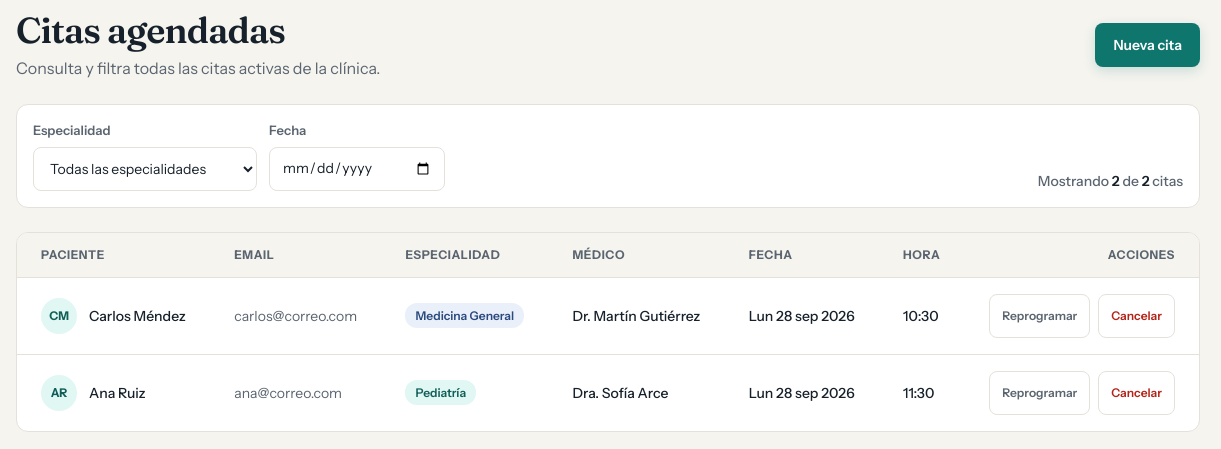
Scenario: CitasPage › resets filters when "Limpiar filtros" is clicked
The width and height of the screenshot is (1221, 449).
Expected: the text "Carlos Méndez" is shown, [89,306,186,326]
Apply filter
Select "Pediatría" in the dropdown labelled "Especialidad": (145, 168) [33,146,257,190]
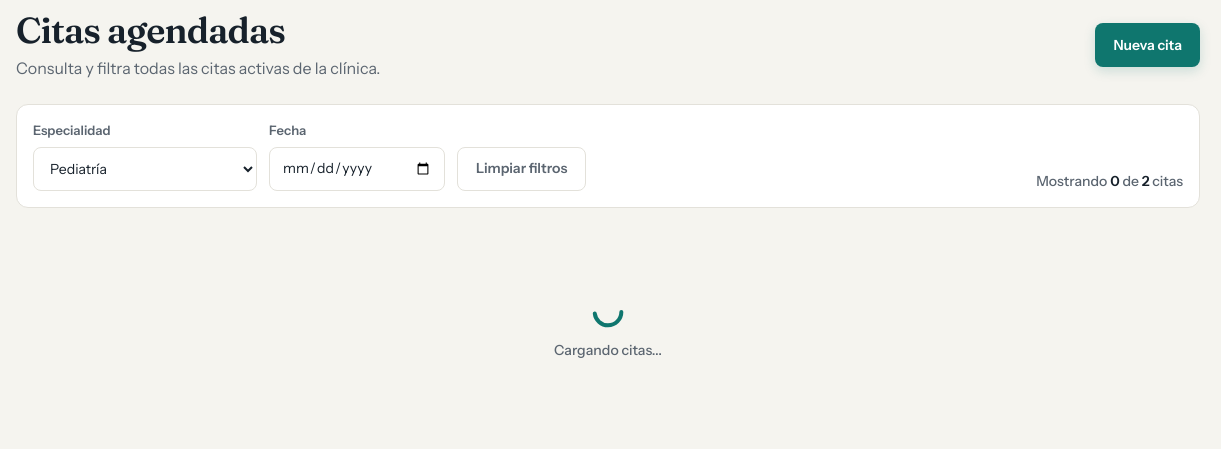
Now the button "Limpiar filtros" is shown
Click clear filters
Click the button "Limpiar filtros": (522, 168) [457,146,586,190]
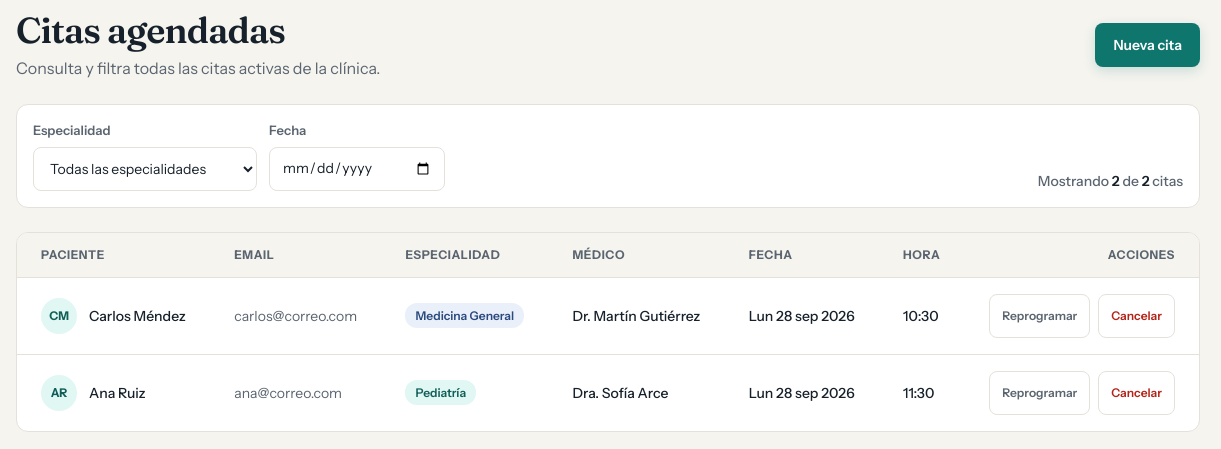
Now the text "Carlos Méndez" is shown, box [89,306,186,326]
